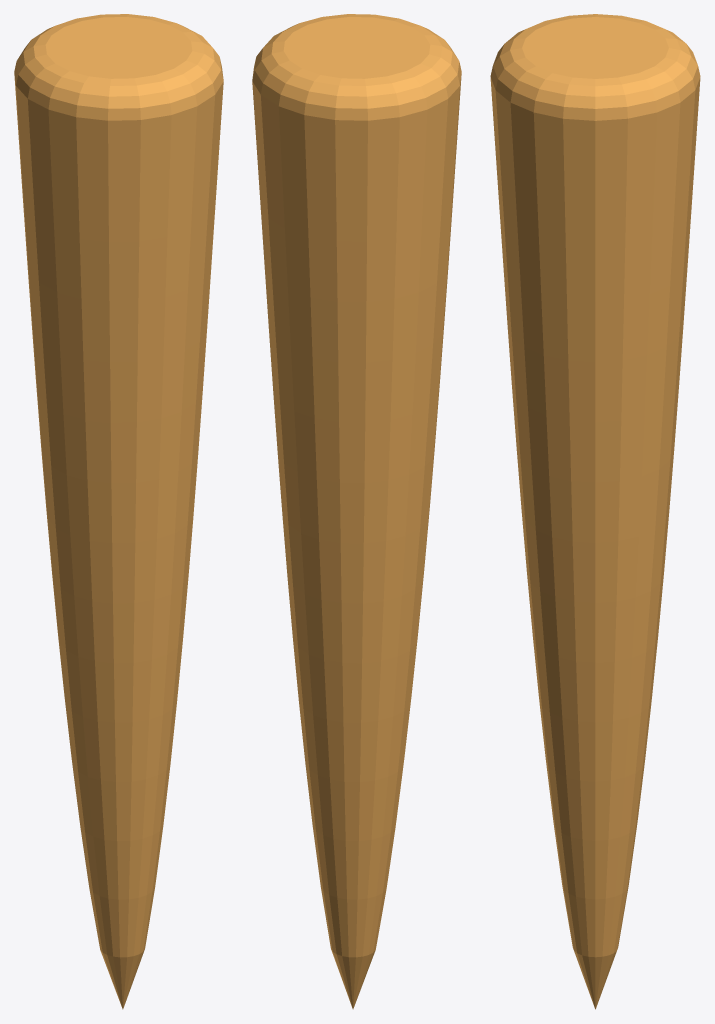
File: carrot_v02.glb
3 views of the same model, side by side, from view 1: azimuth 30°, elevation 25°; view 2: azimuth 150°, elevation 25°; view 3: azimuth 270°, elevation 25° (orthographic).
Visible parts, largest first — view 1: root; view 2: root; view 3: root.
Part boxes in pixels (<box>): root: <box>14,14,223,1009</box>; root: <box>252,14,461,1009</box>; root: <box>490,14,700,1009</box>.
Bounding box in the file's own units: 0.0392 × 0.1978 × 0.0392.
